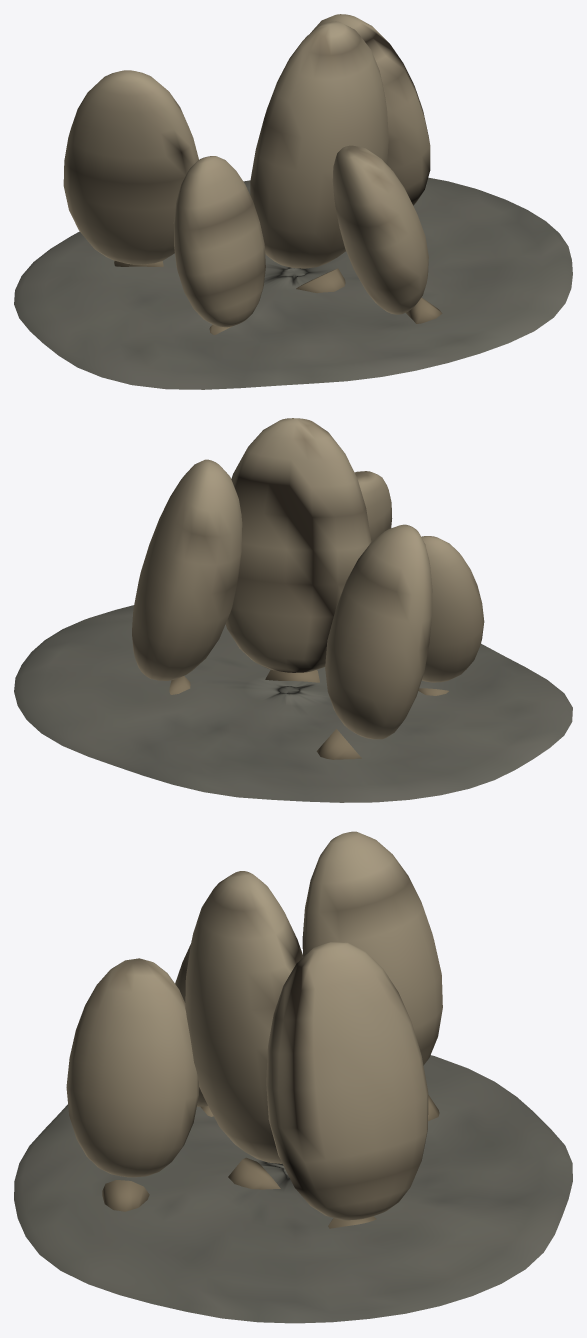
File: PentamerusOblongus.fbx
The picture shows the model from 3 angles, top to bottom: view 1: azimuth 30°, elevation 25°; view 2: azimuth 150°, elevation 25°; view 3: azimuth 270°, elevation 25°; orthographic projection. The views are drawn at different scales.
Visible parts, largest first — view 1: PentamerusOblongus; view 2: PentamerusOblongus; view 3: PentamerusOblongus.
Part boxes in pixels (<box>): PentamerusOblongus: <box>14,14,572,389</box>; PentamerusOblongus: <box>14,418,572,802</box>; PentamerusOblongus: <box>14,831,572,1323</box>.
Bounding box in the file's own units: 1.76 × 0.9028 × 1.46.
